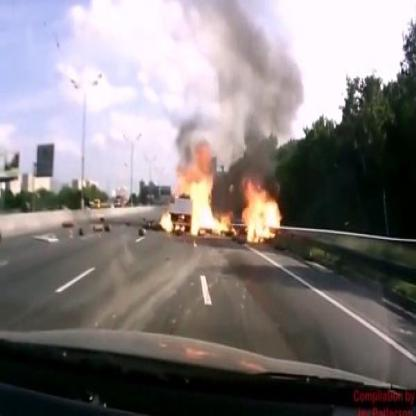fire: (159, 138, 283, 252)
